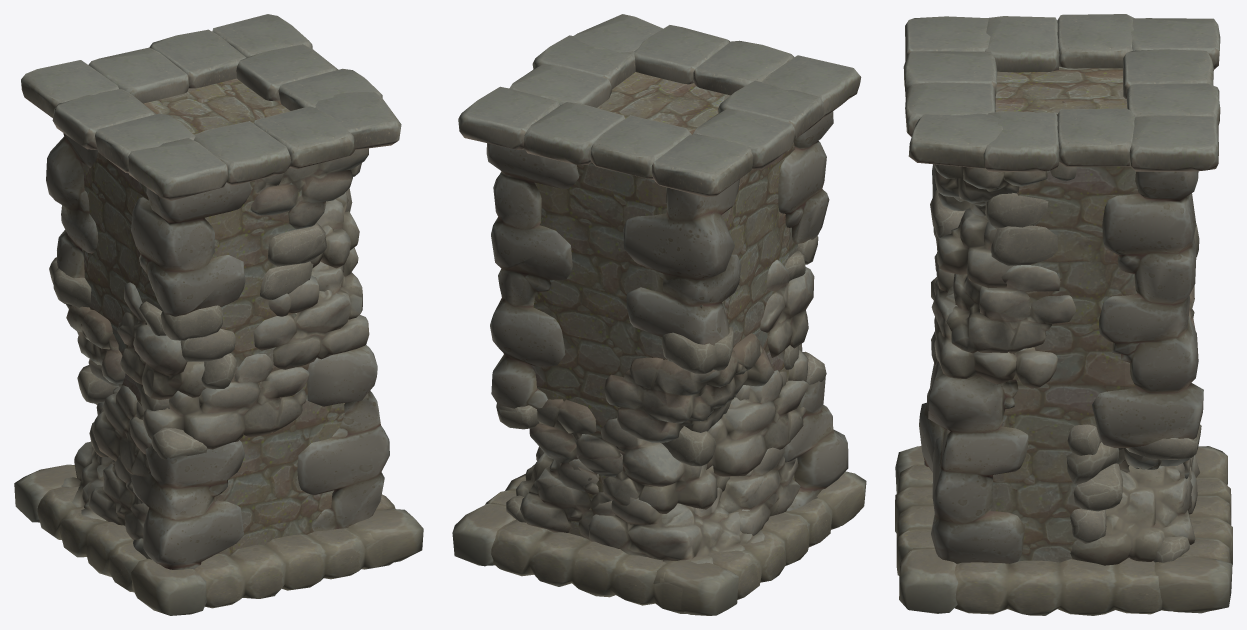
File: SM_FW01_Ruins_Int_Pillar_A_2x4_02.fbx
3 renders of one model, left to right at view 1: azimuth 30°, elevation 25°; view 2: azimuth 150°, elevation 25°; view 3: azimuth 270°, elevation 25°, orthographic. The views are drawn at different scales.
Parts seen in each view (by area): view 1: SM_FW01_Ruins_Int_Pillar_A_2x4_02_LOD0, SM_FW01_Ruins_Int_Pillar_A_2x4_02; view 2: SM_FW01_Ruins_Int_Pillar_A_2x4_02_LOD0, SM_FW01_Ruins_Int_Pillar_A_2x4_02; view 3: SM_FW01_Ruins_Int_Pillar_A_2x4_02_LOD0, SM_FW01_Ruins_Int_Pillar_A_2x4_02.
Boxes of the visible parts, <box> form: SM_FW01_Ruins_Int_Pillar_A_2x4_02_LOD0: <box>14,14,423,615</box>; SM_FW01_Ruins_Int_Pillar_A_2x4_02: <box>82,78,368,555</box>; SM_FW01_Ruins_Int_Pillar_A_2x4_02_LOD0: <box>452,14,866,615</box>; SM_FW01_Ruins_Int_Pillar_A_2x4_02: <box>531,72,797,538</box>; SM_FW01_Ruins_Int_Pillar_A_2x4_02_LOD0: <box>895,14,1232,615</box>; SM_FW01_Ruins_Int_Pillar_A_2x4_02: <box>942,66,1138,562</box>.
Size of what is drawn, in the model's own units: 2.7 by 4.26 by 2.78.
